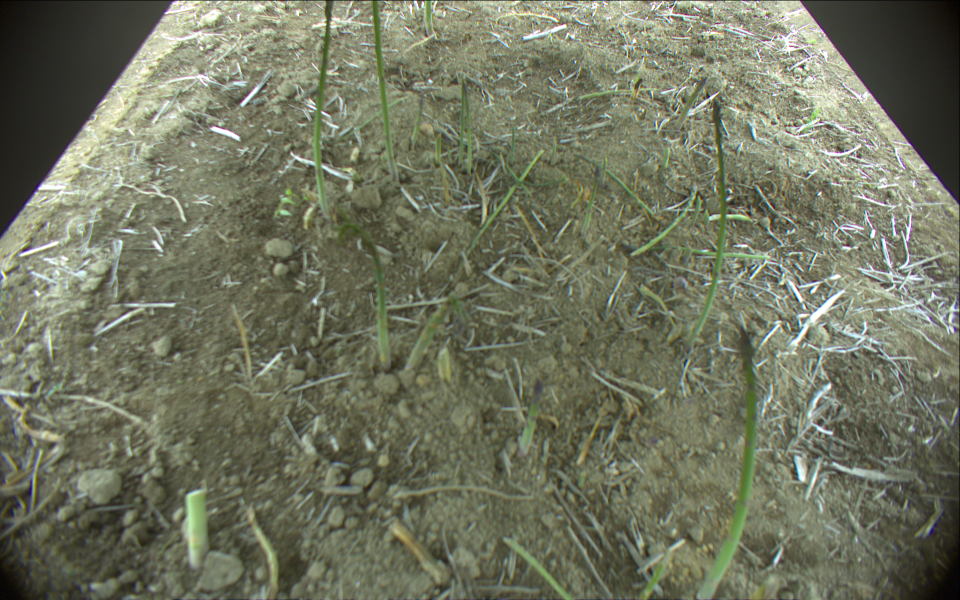aspa: (692, 327, 758, 600), (467, 150, 549, 249), (341, 217, 393, 372), (693, 102, 727, 336), (369, 1, 402, 180), (400, 293, 462, 379), (311, 1, 335, 221), (631, 185, 699, 256), (502, 536, 577, 600), (247, 505, 281, 600), (183, 484, 208, 569), (576, 164, 603, 242), (638, 548, 673, 600), (461, 74, 476, 172), (582, 84, 657, 100), (407, 94, 426, 150), (423, 1, 438, 39), (712, 211, 752, 221), (434, 132, 446, 165), (700, 254, 776, 259)
